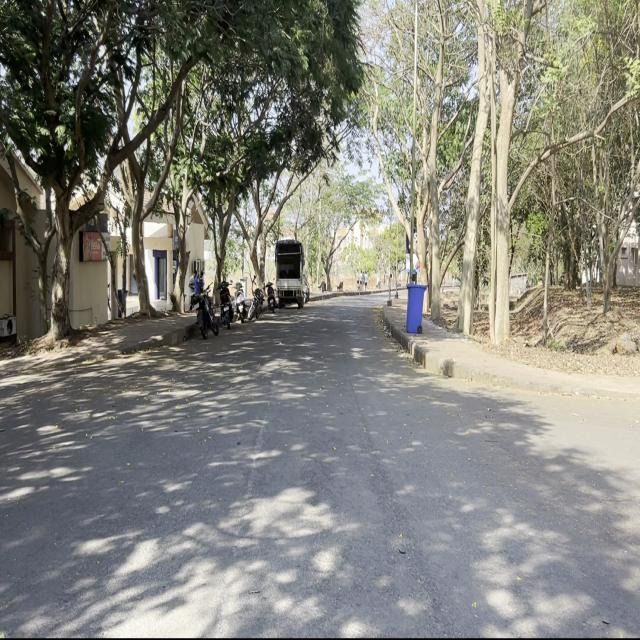Object: (270, 236, 308, 310), (184, 271, 217, 340), (218, 276, 233, 328), (250, 280, 261, 322), (234, 275, 242, 327)
Road: (6, 303, 527, 630)
